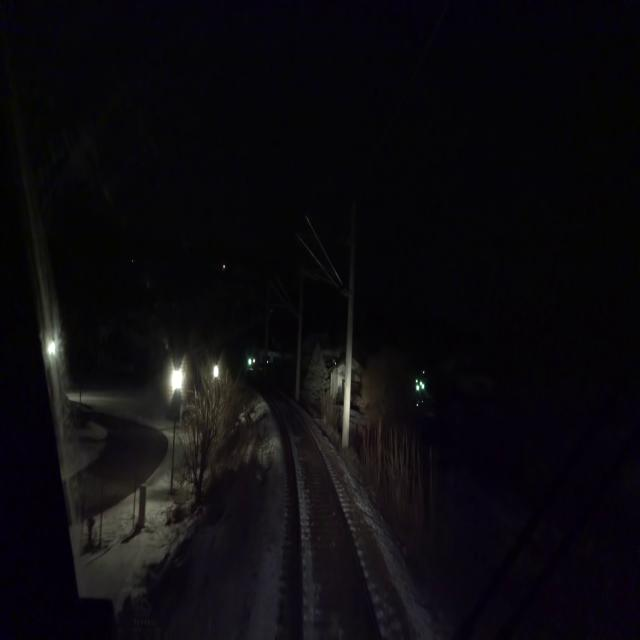rail-track: (263, 387, 375, 639)
